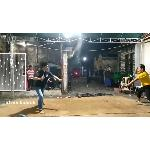Celurit: (38, 66, 48, 82)
